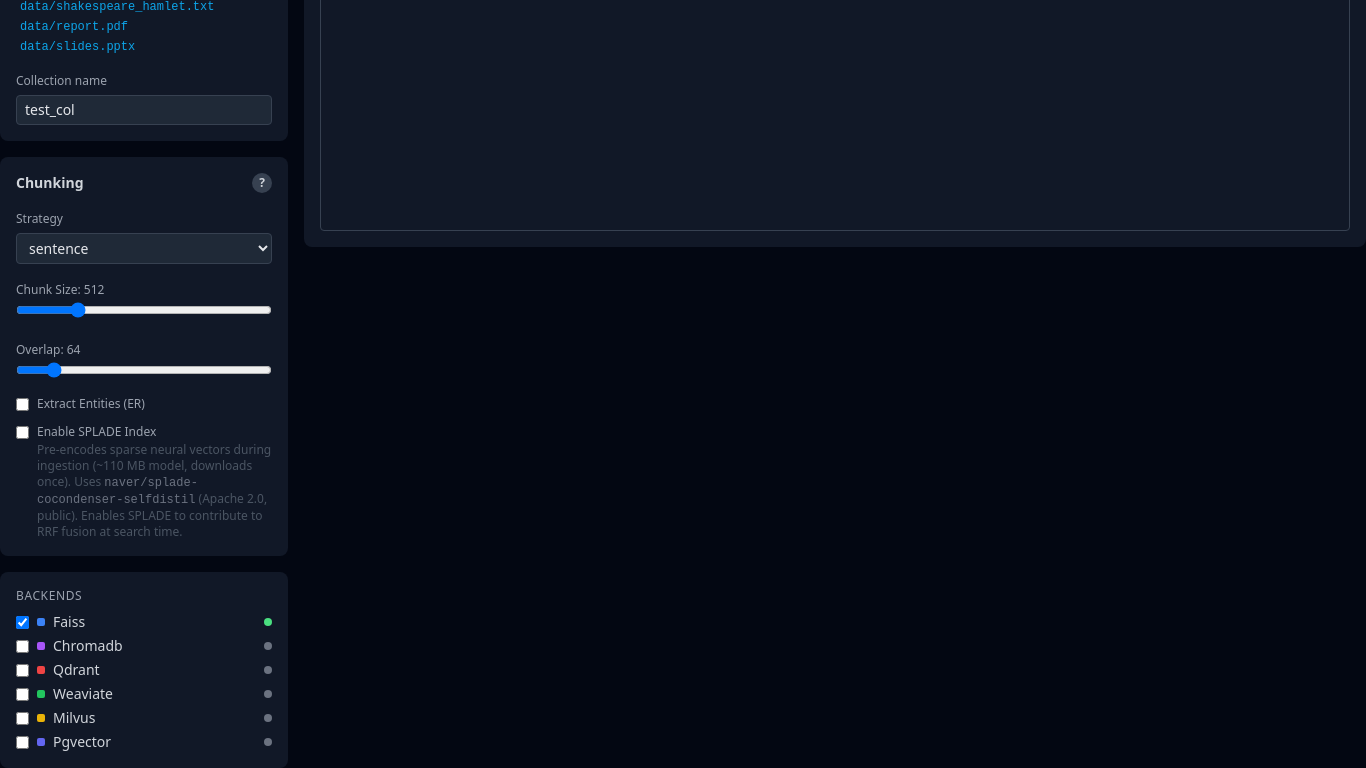
Test case: IngestionStudio — server path quick-picks include PDF/PPTX › clicking PPTX quick-pick fills the server path input
(page scrolled)
Click the button "data/slides.pptx" at (144,47), box x1=16 y1=39 x2=272 y2=55
(page scrolled)
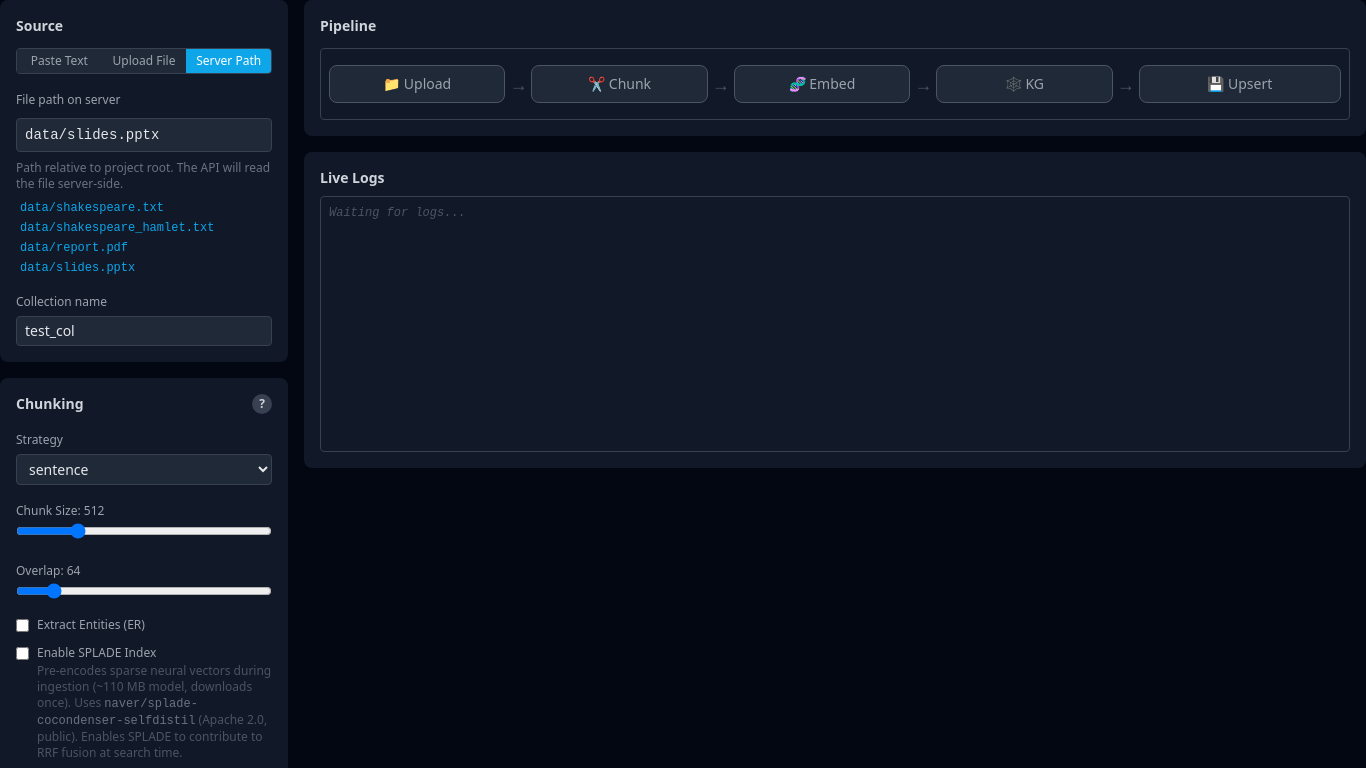
Expected: the field with placeholder "data/shakespeare.txt" below "File path on server" holds "data/slides.pptx", x1=16 y1=118 x2=272 y2=152
